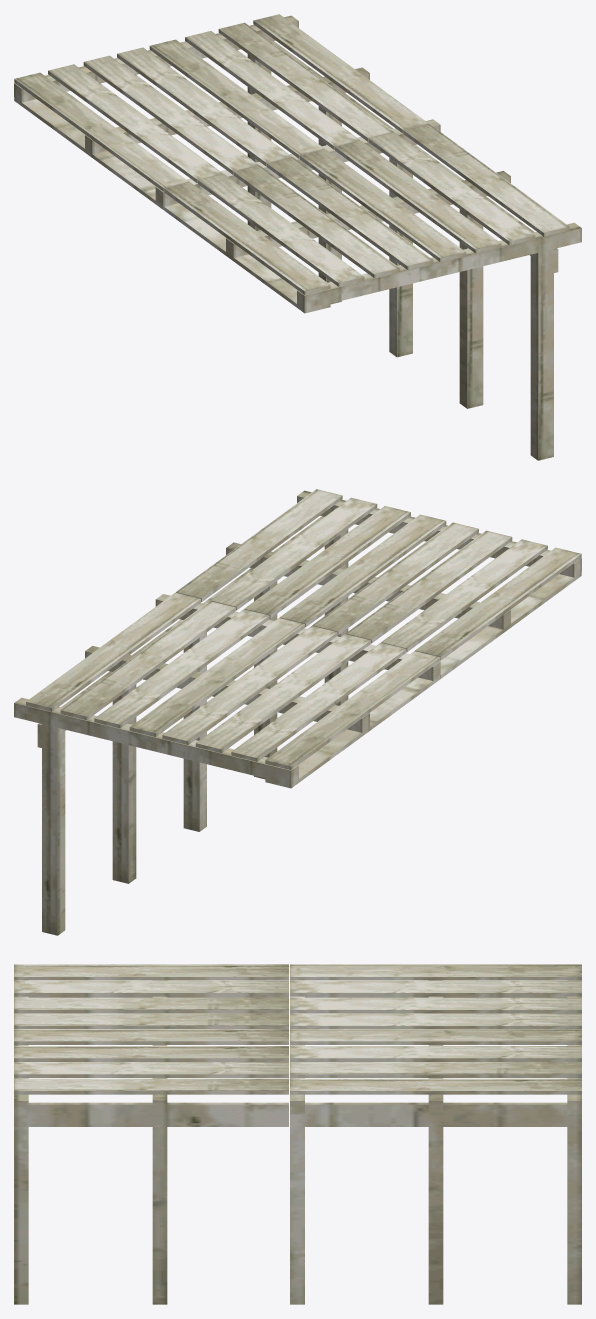
Rendered from dyn_garrage1.obj.
3 views of the same model, one above another, from view 1: azimuth 30°, elevation 25°; view 2: azimuth 150°, elevation 25°; view 3: azimuth 270°, elevation 25° (orthographic). The views are drawn at different scales.
Parts seen in each view (by area): view 1: DYN_GARRAGE1; view 2: DYN_GARRAGE1; view 3: DYN_GARRAGE1.
Boxes of the visible parts, <box> form: DYN_GARRAGE1: <box>14,14,581,460</box>; DYN_GARRAGE1: <box>14,489,581,935</box>; DYN_GARRAGE1: <box>14,964,581,1304</box>.
Bounding box in the file's own units: 3.69 × 2.88 × 6.69.
Materials: 1 (1 with a texture image).
